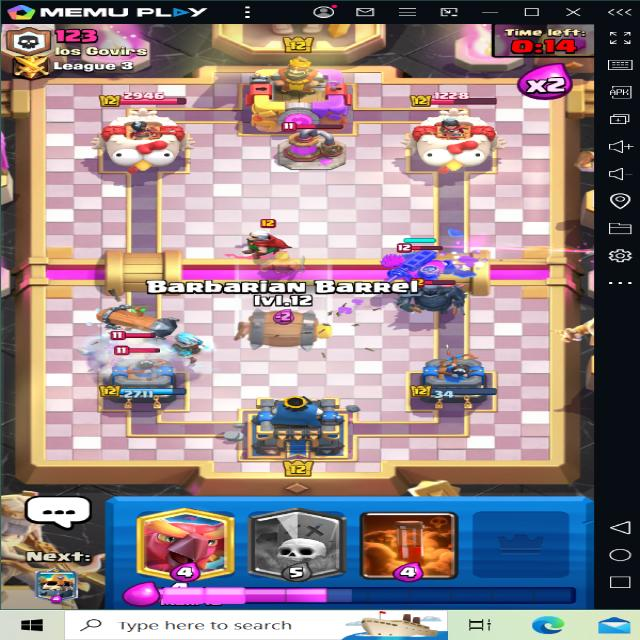battle-ram: (94, 305, 184, 340)
elixir-collector: (265, 124, 354, 182)
magic-archer: (203, 214, 299, 264)
pekka: (373, 282, 494, 322)
skeleton-king: (372, 240, 468, 287)
